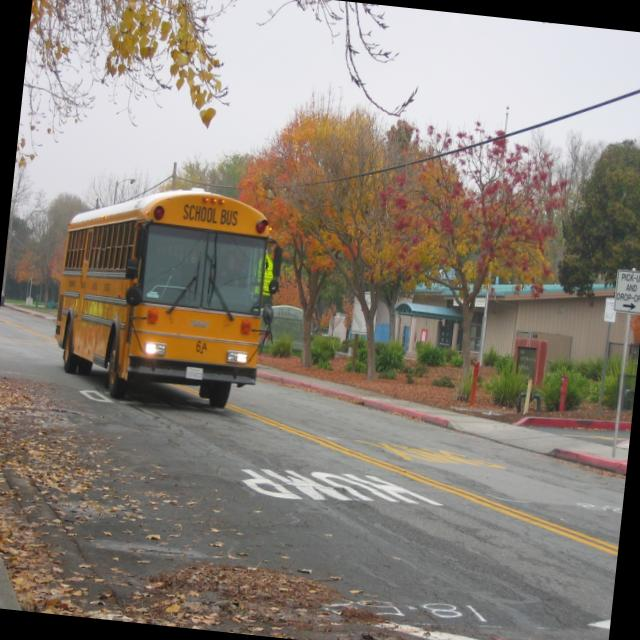bus: (46, 176, 276, 412)
